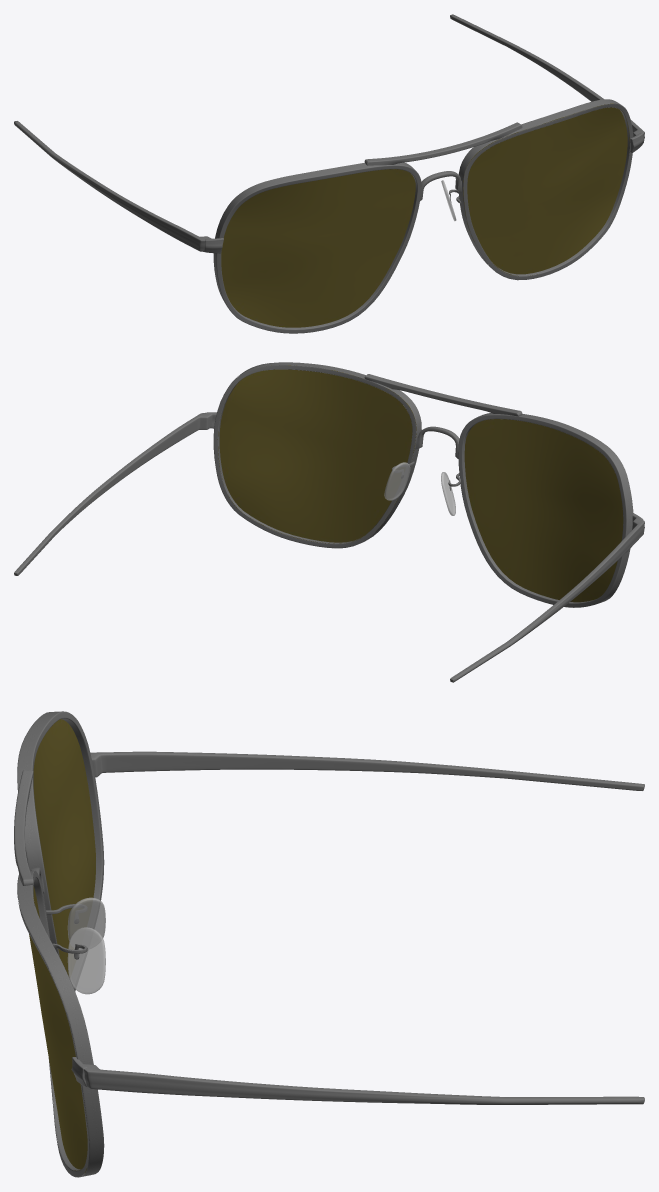
The model's file is CHROMANCE_app.glb.
3 views of the same model, one above another, from view 1: azimuth 30°, elevation 25°; view 2: azimuth 150°, elevation 25°; view 3: azimuth 270°, elevation 25° (orthographic). The views are drawn at different scales.
Visible parts, largest first — view 1: chrmOBJ; view 2: chrmOBJ; view 3: chrmOBJ.
Part boxes in pixels (<box>): chrmOBJ: <box>14,14,644,333</box>; chrmOBJ: <box>14,362,644,682</box>; chrmOBJ: <box>14,711,644,1177</box>.
Size of the model in its own units: 0.1525 by 0.053 by 0.1215.
3 materials, 3 textured.
